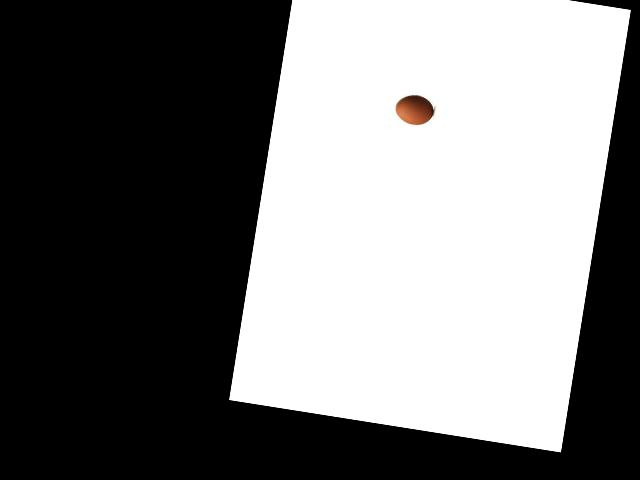egg: (394, 92, 436, 126)
